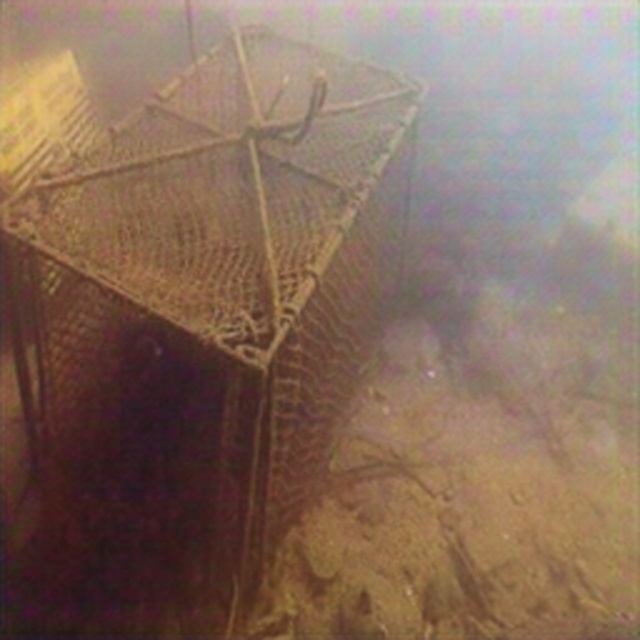mine: (1, 22, 431, 621)
